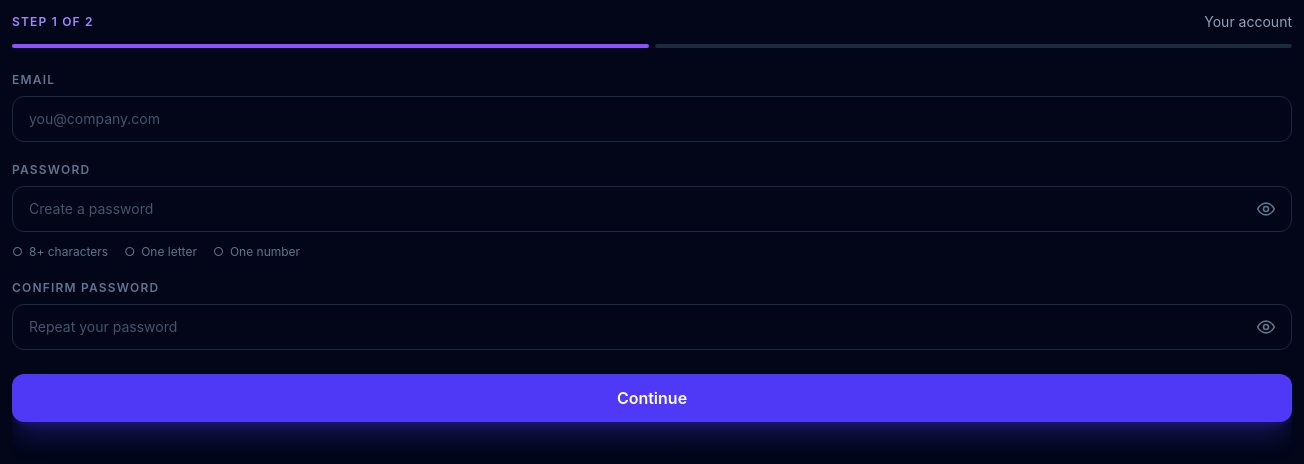
Test: SignupForm account step › toggles password visibility with the eye button
Click the 1st button named "Show password".
click(1266, 209)  # box [1240,186,1292,232]
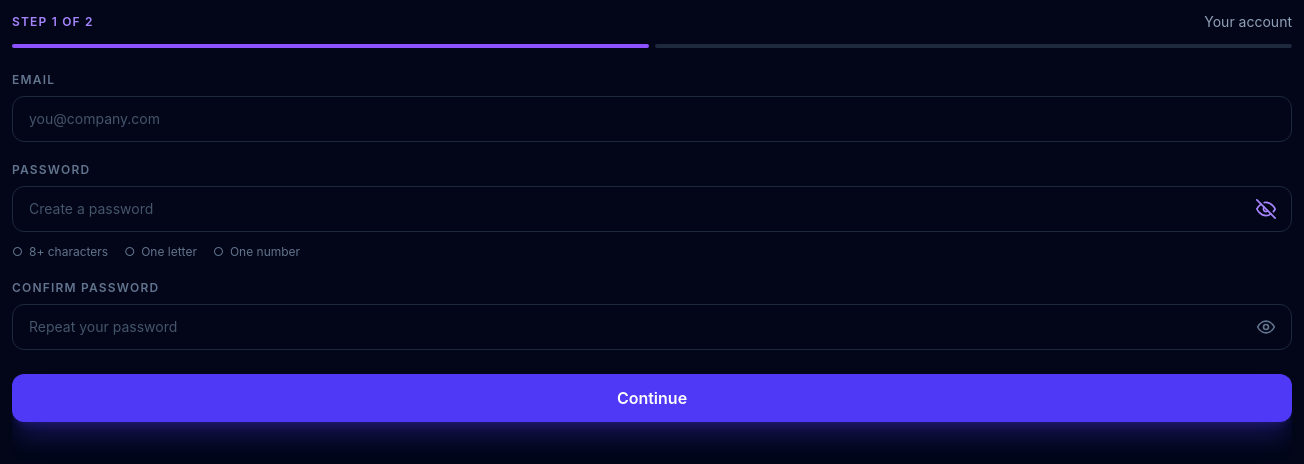
Check: the button named "Hide password" is pressed, box [1240,186,1292,232]
